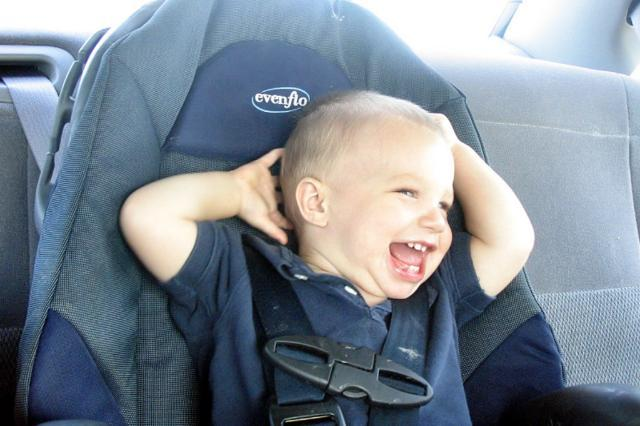SafeDriving: (381, 176, 428, 207)
Seatbelt: (237, 238, 427, 426), (0, 71, 78, 186)
